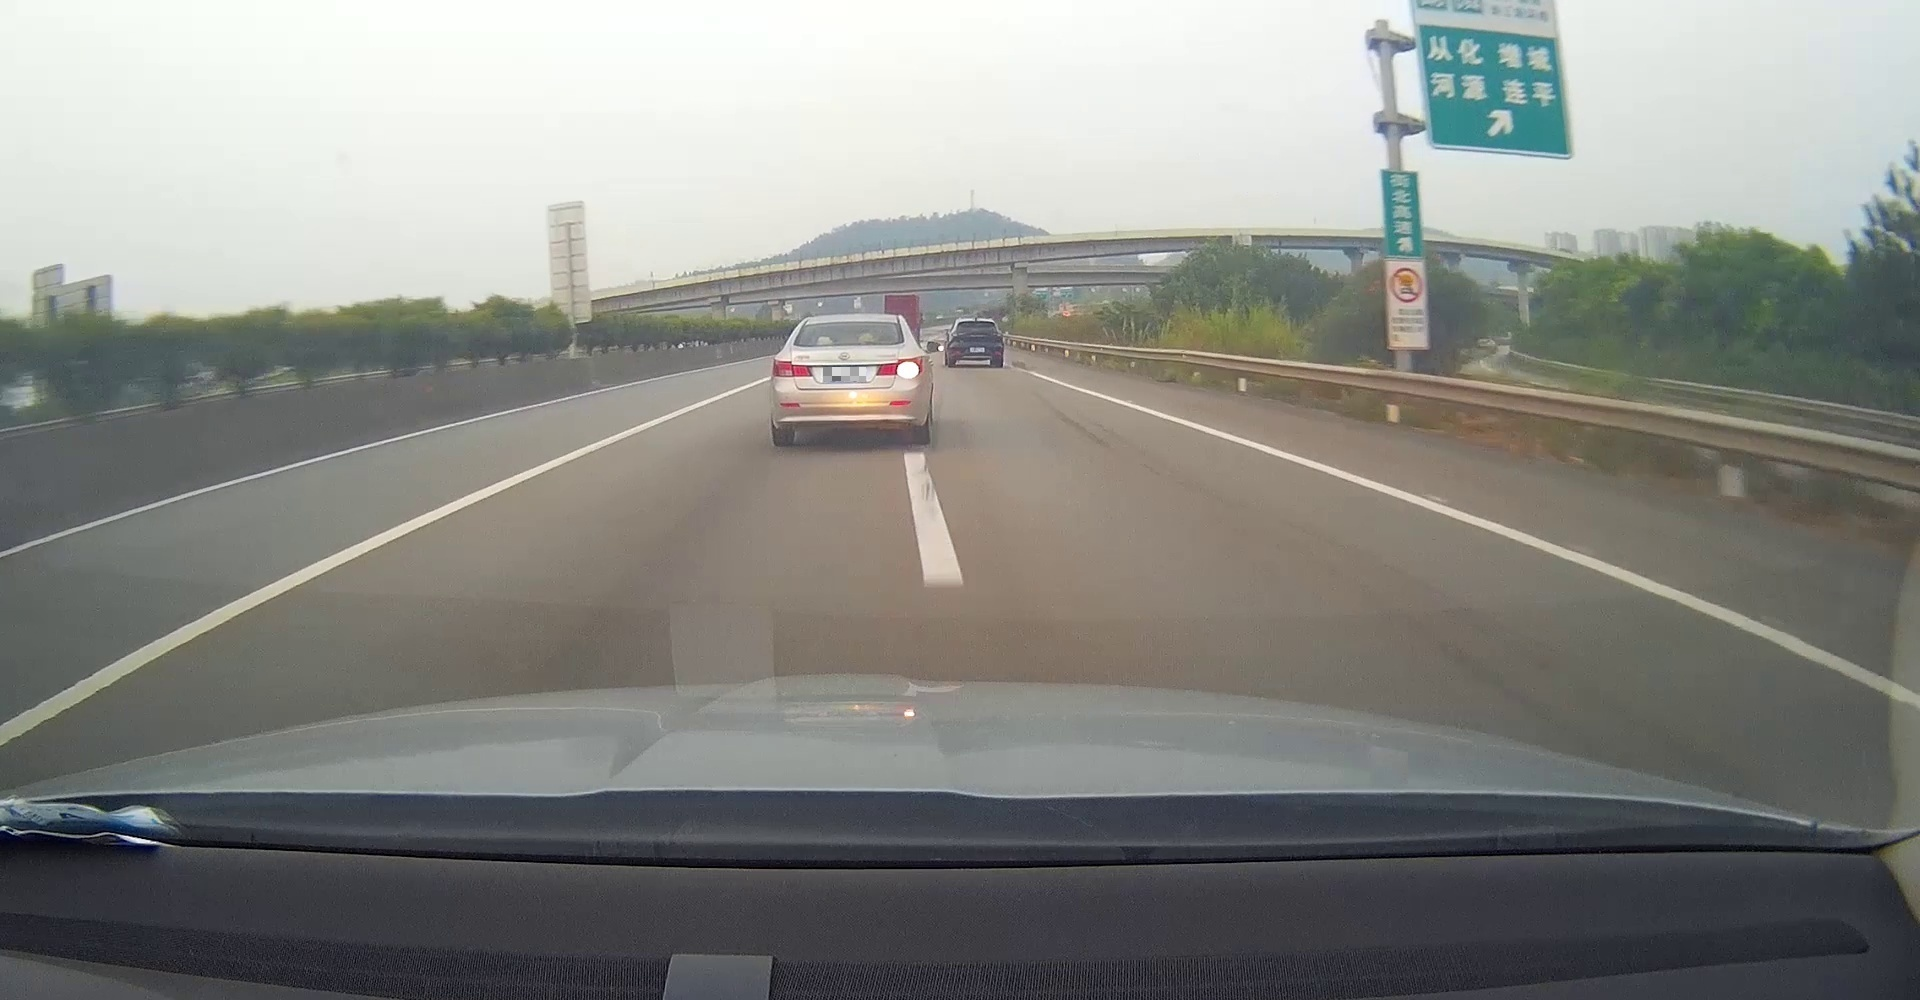L_light: (771, 359, 811, 378), (950, 332, 963, 338)
R_light: (876, 357, 922, 378), (990, 332, 1001, 338)
T_light: (836, 340, 858, 345), (970, 321, 982, 324)
day-no: (949, 319, 1003, 367)
day-right: (770, 313, 932, 445)
plate_1: (823, 367, 866, 381)
